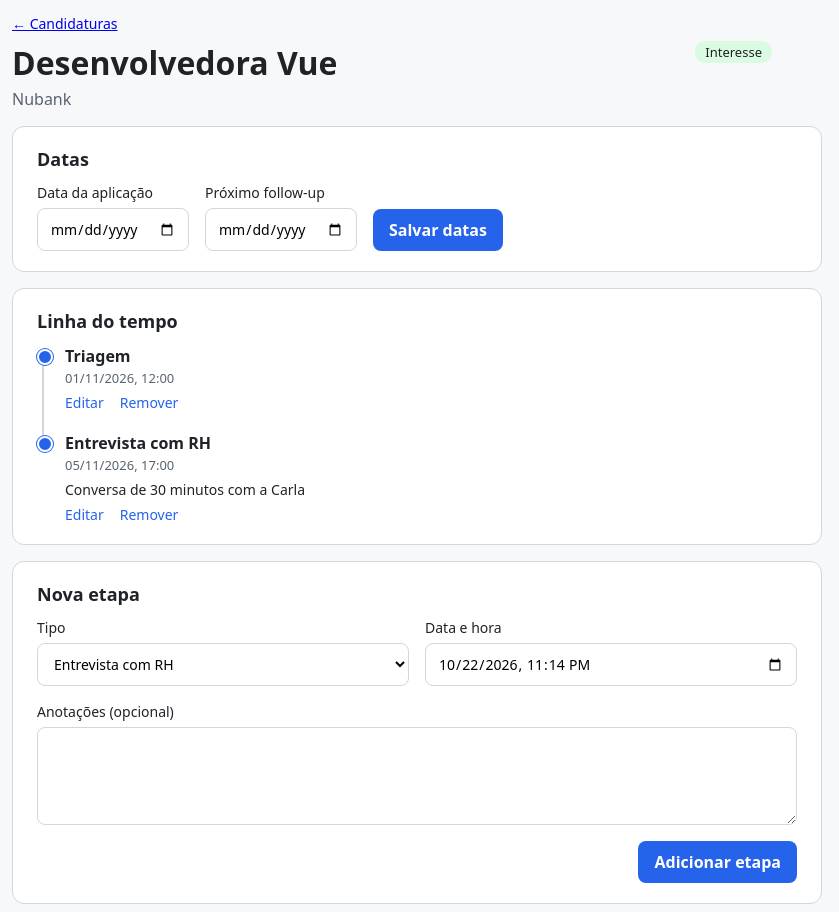
CandidaturaView › editar etapa › leva a etapa para o formulário e salva as alterações na mesma etapa
Click the button with test id "editar" below "Conversa de 30 minutos com a Carla": {"x": 84, "y": 514} [65, 505, 104, 524]
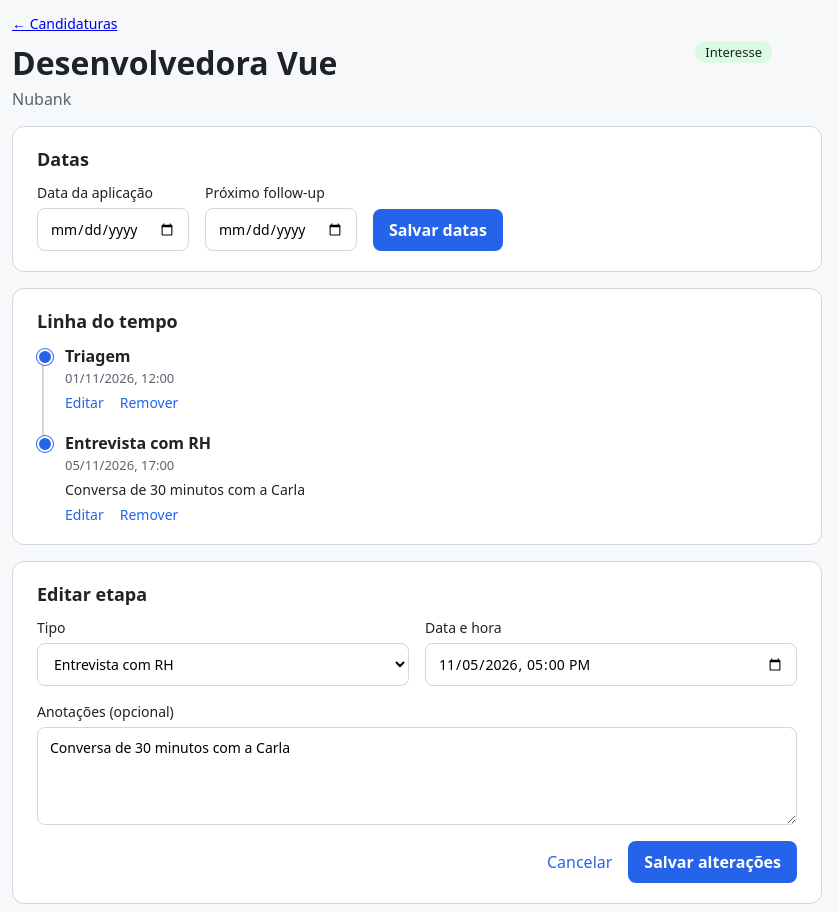
Now the text box with test id "anotacoes" holds "Conversa de 30 minutos com a Carla"
Now the text "Editar etapa" is shown, box [37, 582, 147, 606]
Replace the text in the text box with test id "anotacoes" showing "Anotações (opcional)" with "Remarcada para sexta": {"x": 417, "y": 776} [37, 727, 797, 825]
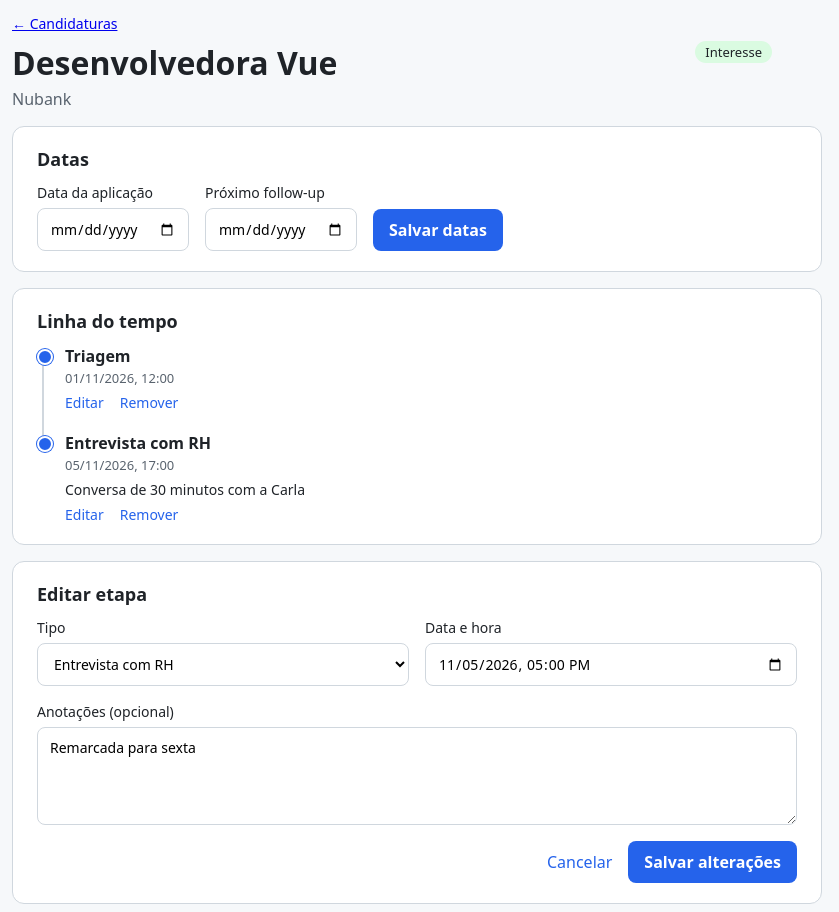
Submit the form from the button with test id "salvar-etapa", box [628, 841, 797, 883]
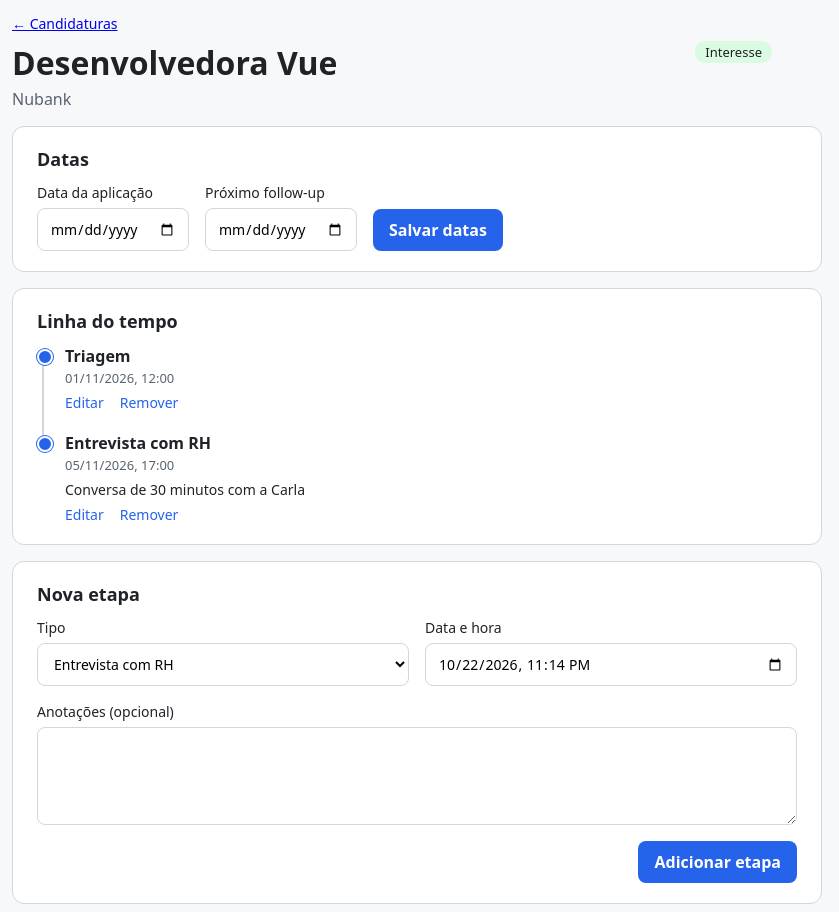
Now the text "Nova etapa" is shown, box [37, 582, 140, 606]
